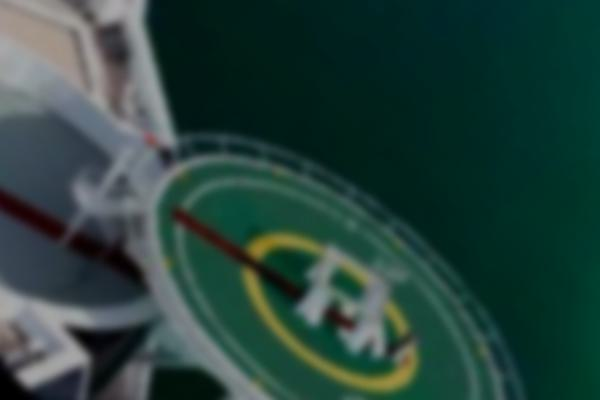Apron: (235, 219, 438, 397)
